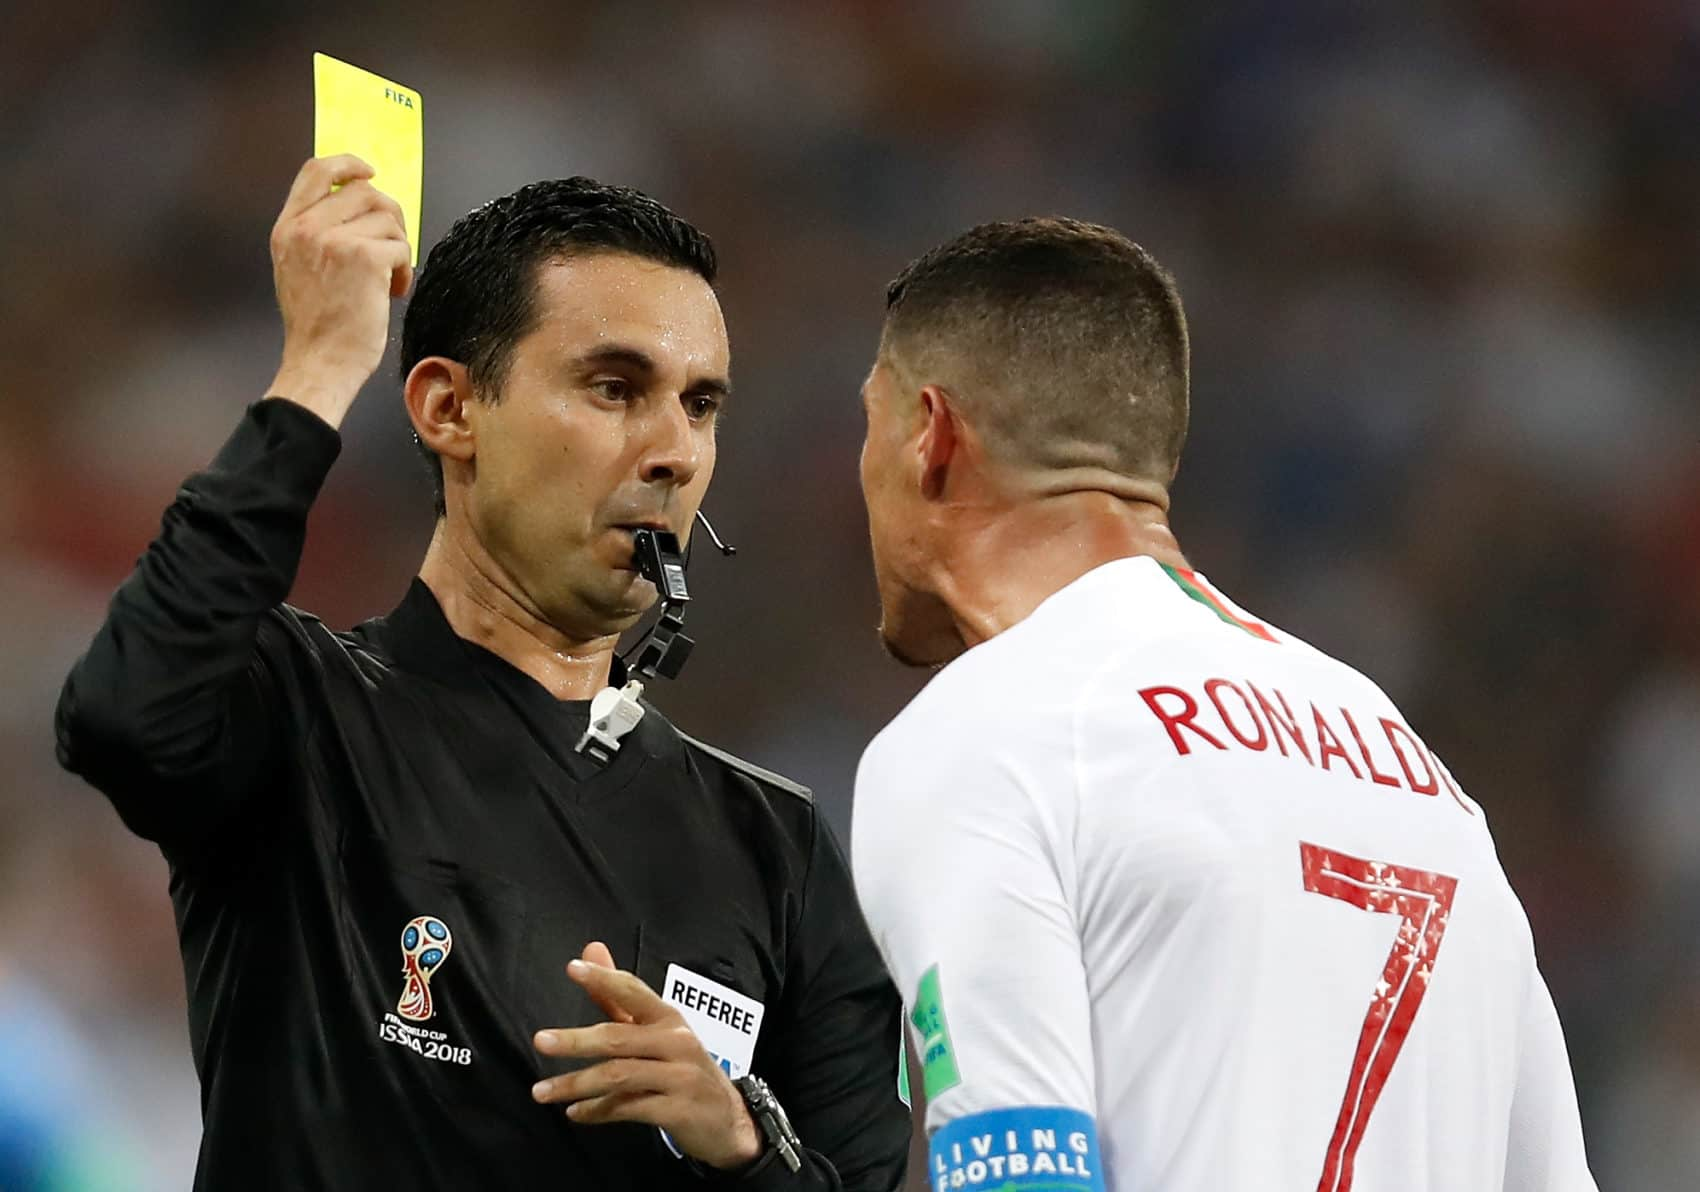yellow_card: (223, 28, 453, 421)
